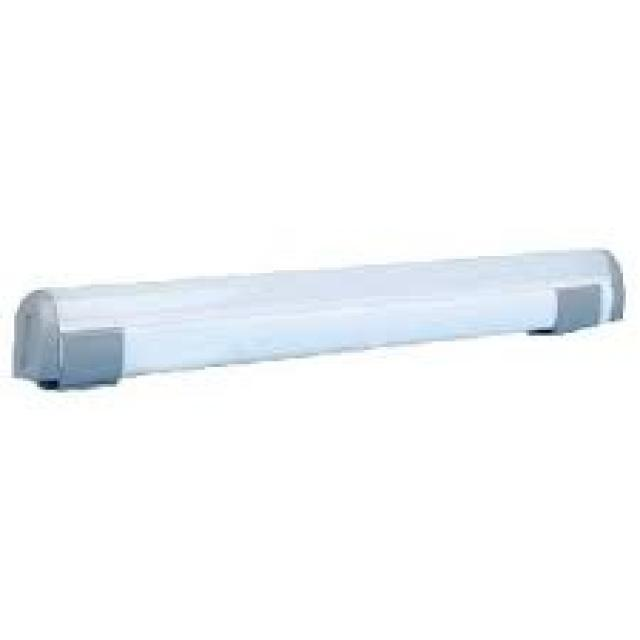tubelight_off: (13, 241, 630, 406)
